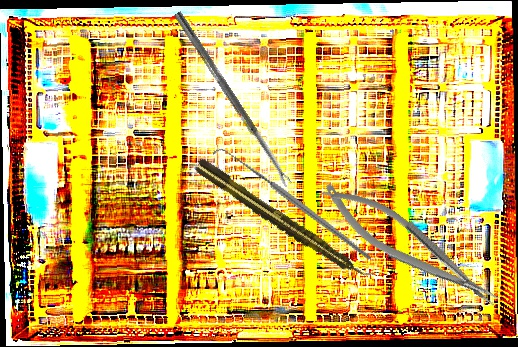Handpiece: (192, 155, 375, 288)
Hook Surgical: (211, 109, 374, 301)
Needle Holder: (313, 168, 506, 325)
Surgical Spoon: (172, 11, 293, 188)
